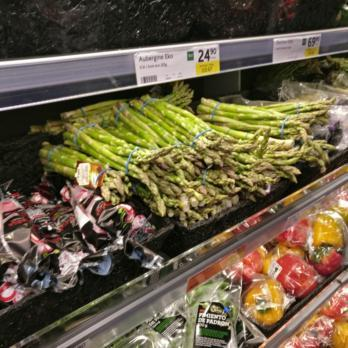Capsicum: (246, 268, 288, 322)
